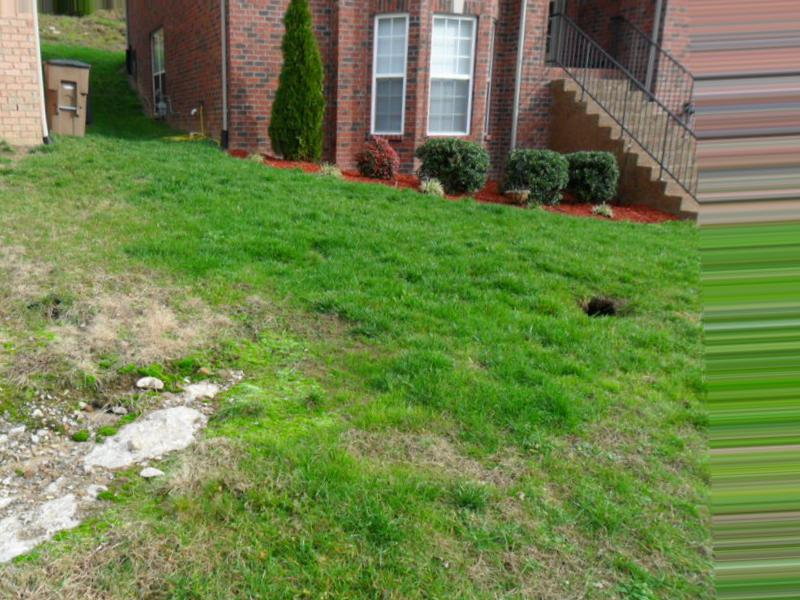patch: (12, 388, 155, 558), (41, 271, 229, 372), (354, 425, 493, 486)
